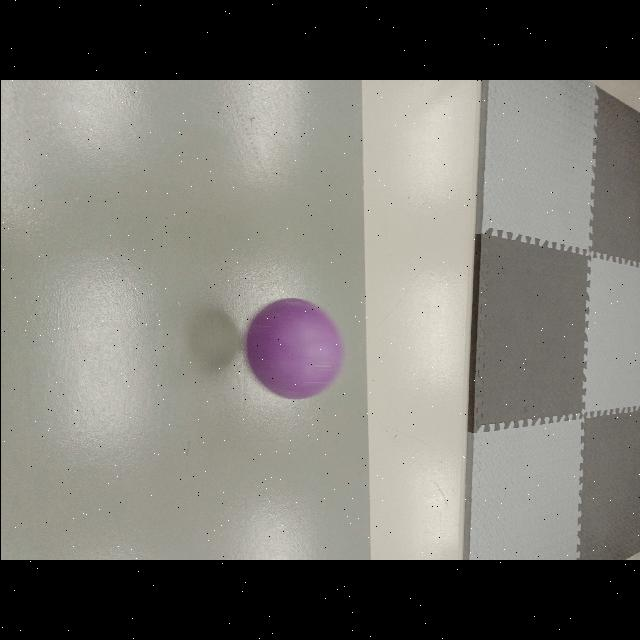P: (241, 296, 347, 402)
